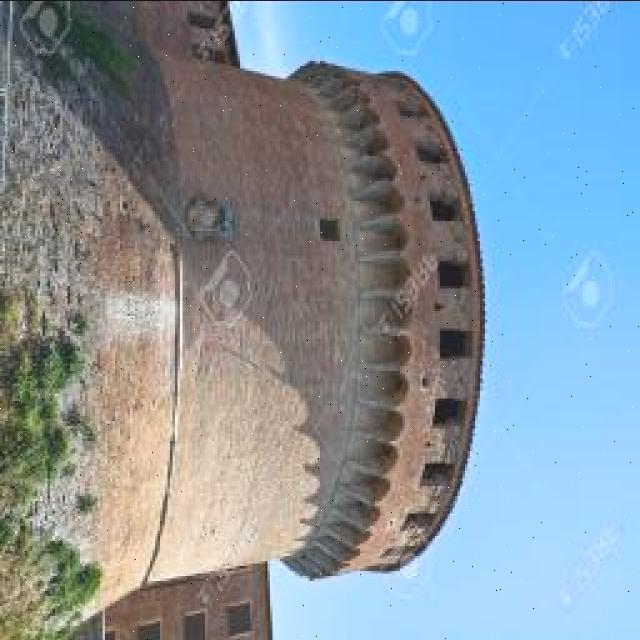dampness: (16, 0, 114, 295)
vegetation: (0, 294, 104, 638), (88, 319, 180, 480), (4, 329, 78, 446)
